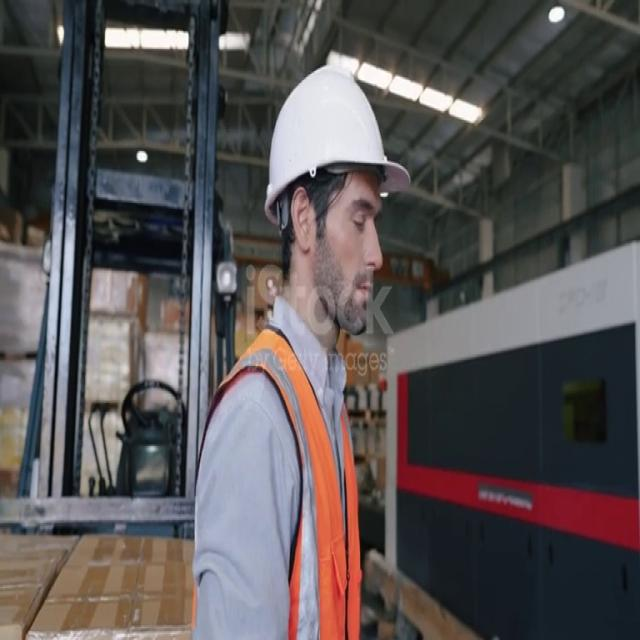capacete: (250, 58, 403, 219)
